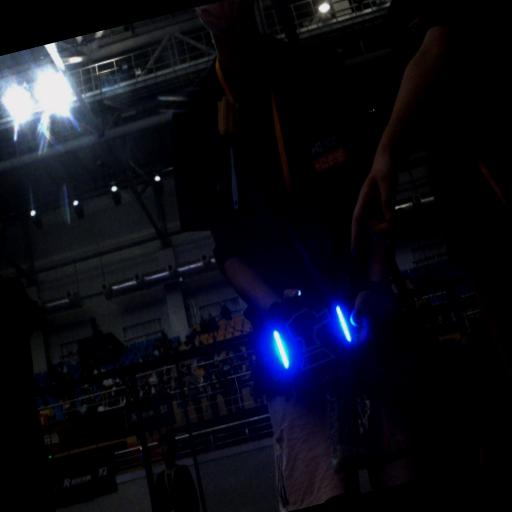target: (263, 292, 364, 384)
